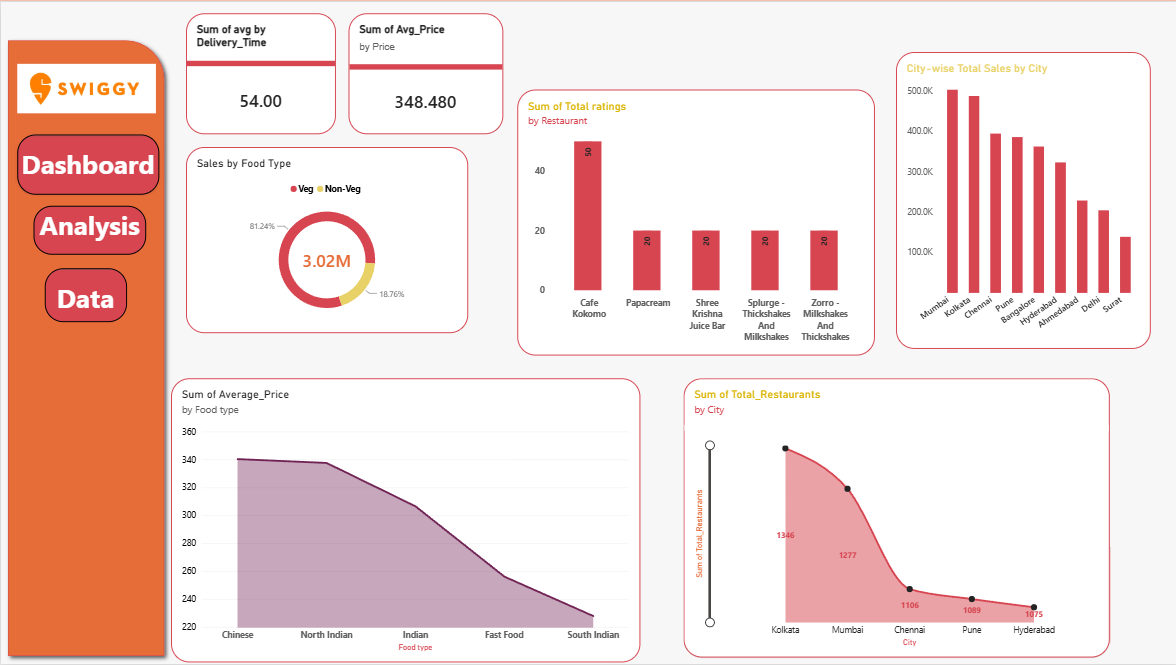

The dashboard page shown, as its layout file describes it:
{"tool":"powerbi","page":{"name":"Page 1","canvas":[1920,1080],"ordinal":0},"visuals":[{"type":"kpi","fields":{"Indicator":["Sum(overall_metrics.Avg_Price)"],"TrendLine":["overall_metrics.Avg_Price"]},"box":[567.5,17.5,252.5,197.5],"z":0},{"type":"kpi","fields":{"Indicator":["Sum(overall_metrics.Avg_Delivery_Time)"],"TrendLine":["overall_metrics.Avg_Delivery_Time"]},"box":[302.5,17.5,245,197.5],"z":1000},{"type":"stackedAreaChart","fields":{"Category":["top_5_cities.City"],"Y":["Sum(top_5_cities.Total_Restaurants)"]},"box":[1115,615,696,456],"z":2000},{"type":"lineClusteredColumnComboChart","fields":{"Category":["top_rated_restaurants.Restaurant"],"Y":["Sum(top_rated_restaurants.Total ratings)"]},"box":[842,142,584,434],"z":3000},{"type":"stackedAreaChart","fields":{"Category":["top_5_cuisines.Food type"],"Y":["Sum(top_5_cuisines.Average_Price)"]},"box":[277.5,615,766,464],"z":4000},{"type":"shape","box":[0,52,278,1028],"z":5000},{"type":"donutChart","title":"Sales by Food Type","fields":{"Category":["veg_nonveg_total_price.Food_Category"],"Y":["Sum(veg_nonveg_total_price.Total_Price)"]},"box":[302,236,460.9,304.3],"z":6000},{"type":"textbox","box":[26,216,232,98],"z":7000},{"type":"textbox","box":[72,434,134,88],"z":8000},{"type":"textbox","box":[54,332,184,80],"z":9000},{"type":"image","box":[26,68,226,148],"z":10000},{"type":"lineClusteredColumnComboChart","fields":{"Category":["city_wise_total_price.City"],"Y":["Sum(city_wise_total_price.Total_Price)"]},"box":[1461.2,81.2,416.2,485],"z":11000}]}

Visuals, with their boxes in screenshot pixels (x1, y1, x2, y2), scaled from the page's 1920x1080 canvas onto the 1176x665 screenshot:
kpi - Sum(overall_metrics.Avg_Price) x overall_metrics.Avg_Price: 348 11 502 132
kpi - Sum(overall_metrics.Avg_Delivery_Time) x overall_metrics.Avg_Delivery_Time: 185 11 335 132
stackedAreaChart - top_5_cities.City x Sum(top_5_cities.Total_Restaurants): 683 379 1109 659
lineClusteredColumnComboChart - top_rated_restaurants.Restaurant x Sum(top_rated_restaurants.Total ratings): 516 87 873 355
stackedAreaChart - top_5_cuisines.Food type x Sum(top_5_cuisines.Average_Price): 170 379 639 664
shape: 0 32 170 664
"Sales by Food Type" donutChart: 185 145 467 333
textbox: 16 133 158 193
textbox: 44 267 126 321
textbox: 33 204 146 254
image: 16 42 154 133
lineClusteredColumnComboChart - city_wise_total_price.City x Sum(city_wise_total_price.Total_Price): 895 50 1150 349
